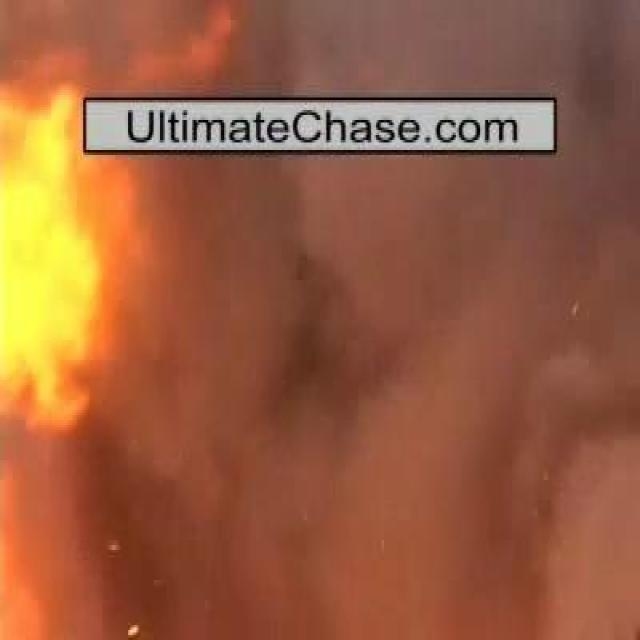Smoke: (126, 172, 519, 558)
